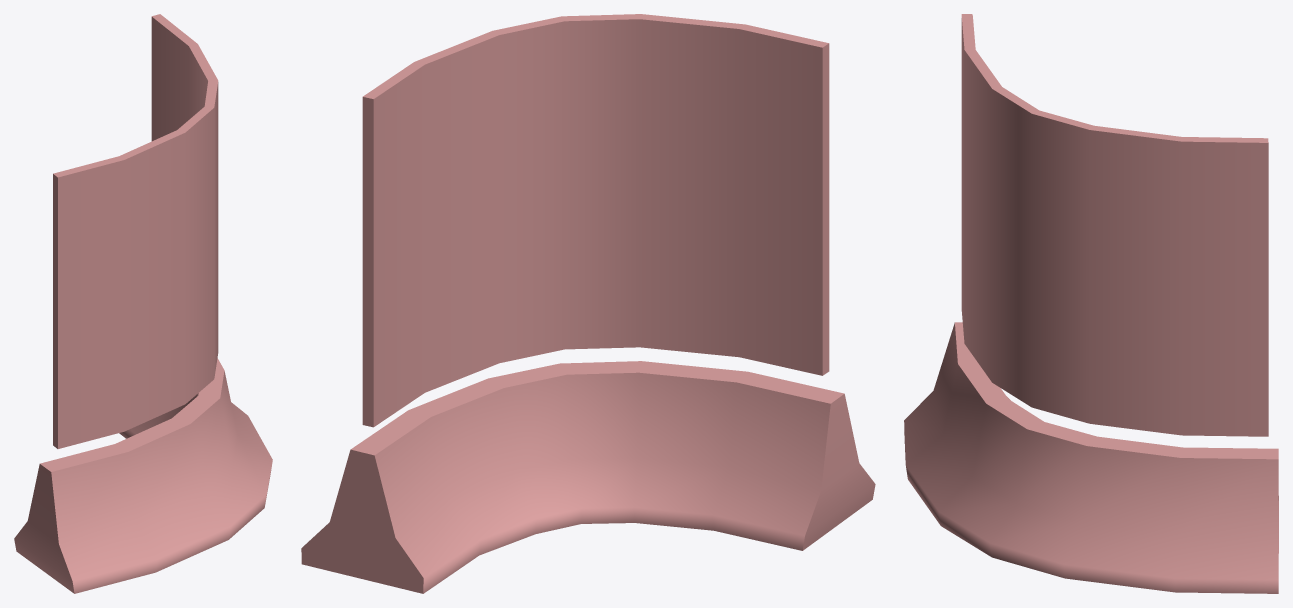
The model's file is Fence_C_F_COL.fbx.
3 renders of one model, left to right at view 1: azimuth 30°, elevation 25°; view 2: azimuth 150°, elevation 25°; view 3: azimuth 270°, elevation 25°, orthographic. The views are drawn at different scales.
Visible parts, largest first — view 1: Fence_C_F_COL; view 2: Fence_C_F_COL; view 3: Fence_C_F_COL.
Boxes of the visible parts, box(x1,y1,x2,y2) form: Fence_C_F_COL: box(14, 14, 272, 593); Fence_C_F_COL: box(301, 14, 875, 593); Fence_C_F_COL: box(904, 14, 1278, 593).
Size of the model in its own units: 240 by 300 by 239.
